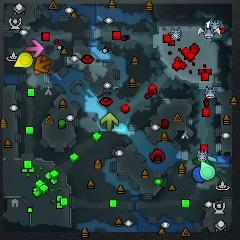p1: (192, 167, 206, 183)
p2: (199, 162, 216, 181)
p4: (15, 53, 33, 68)
p5: (35, 56, 50, 75)
x1: (25, 38, 44, 57)
x2: (101, 113, 119, 131)
x4: (192, 157, 213, 166)
x5: (34, 56, 52, 74)
